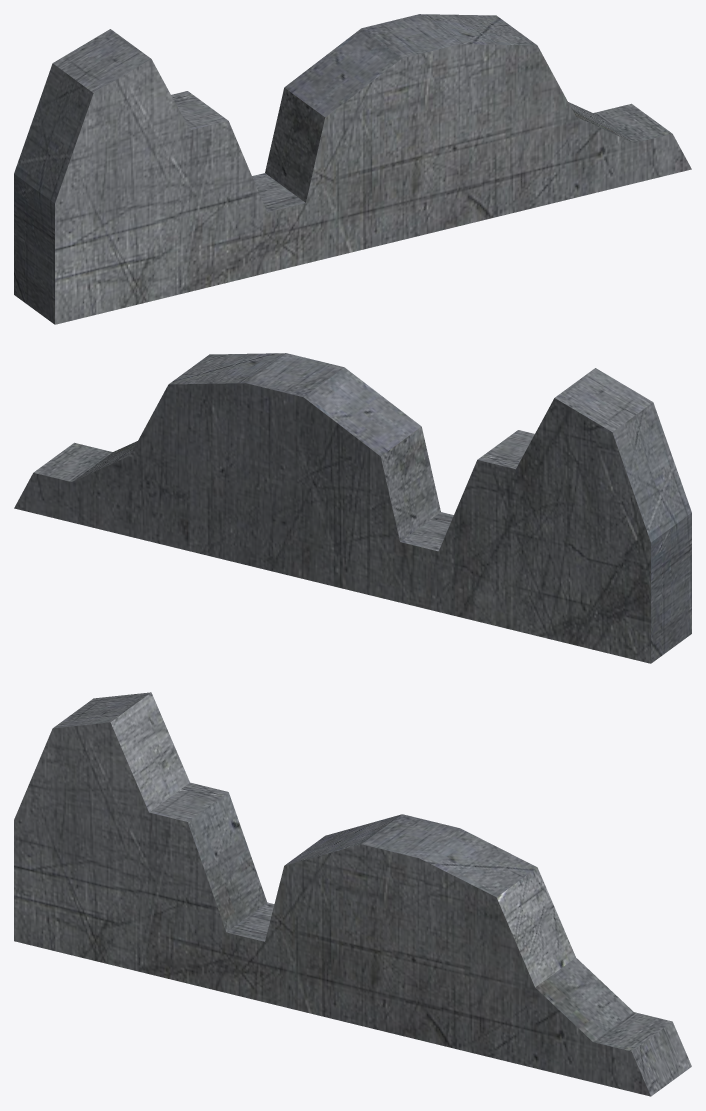
Rendered from wall3.FBX.
3 views of the same model, one above another, from view 1: azimuth 30°, elevation 25°; view 2: azimuth 150°, elevation 25°; view 3: azimuth 330°, elevation 25° (orthographic).
Visible parts, largest first — view 1: Line003; view 2: Line003; view 3: Line003.
Boxes of the visible parts, bbox=[...] form: Line003: bbox=[14, 14, 691, 324]; Line003: bbox=[14, 353, 691, 663]; Line003: bbox=[14, 692, 691, 1096].
Size of the model in its own units: 327 by 119 by 36.5.
Materials: 1 (1 with a texture image).
